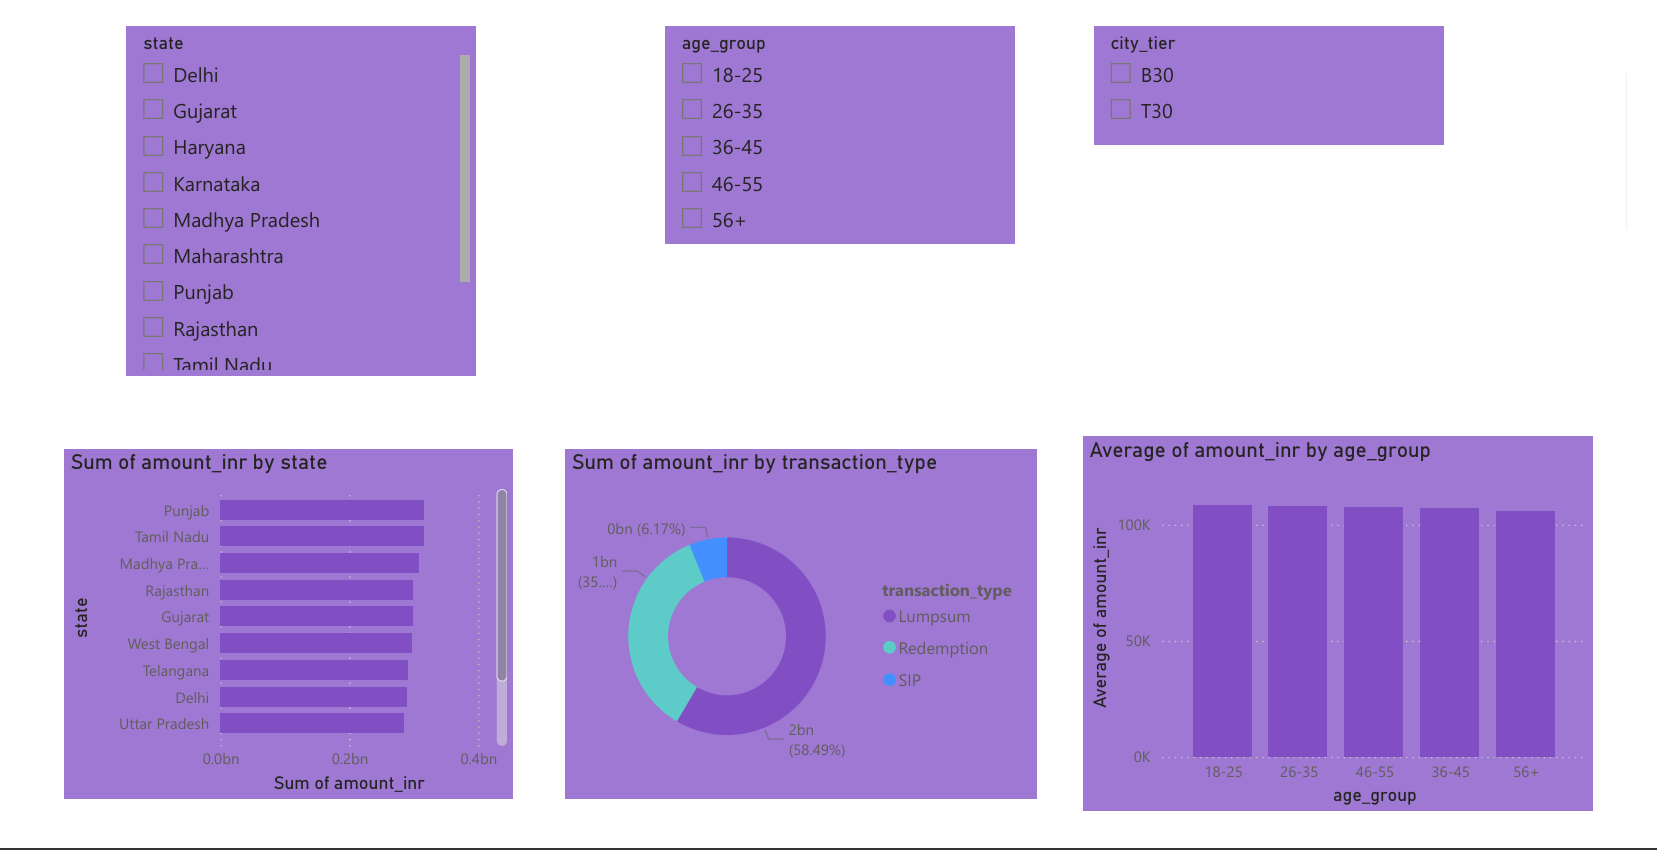

Layout of this report page (visuals, bound fields, positions):
{"tool":"powerbi","page":{"name":"Investor Analytics","canvas":[1280,720],"ordinal":2},"visuals":[{"type":"slicer","fields":{"Values":["08_investor_transactions_clean.state"]},"box":[80,0,280,280],"z":0},{"type":"slicer","fields":{"Values":["08_investor_transactions_clean.age_group"]},"box":[511.2,0,280,173.8],"z":1000},{"type":"slicer","fields":{"Values":["08_investor_transactions_clean.city_tier"]},"box":[853.8,0,280,95],"z":2000},{"type":"clusteredBarChart","fields":{"Y":["Sum(08_investor_transactions_clean.amount_inr)"],"Category":["08_investor_transactions_clean.state"]},"box":[30,337.5,358.8,280],"z":3000},{"type":"donutChart","fields":{"Category":["08_investor_transactions_clean.transaction_type"],"Y":["Sum(08_investor_transactions_clean.amount_inr)"]},"box":[431.2,337.5,376.2,280],"z":4000},{"type":"clusteredColumnChart","fields":{"Category":["08_investor_transactions_clean.age_group"],"Y":["Avg(08_investor_transactions_clean.amount_inr)"]},"box":[845,327.5,407.5,300],"z":5000}]}

Visuals, with their boxes on the page's 1280x720 design canvas (x1, y1, x2, y2). These are canvas units, not pixel positions in the 1657x850 screenshot, which may show the page scaled, cropped or inside an application window:
slicer - 08_investor_transactions_clean.state: box=[80, 0, 360, 280]
slicer - 08_investor_transactions_clean.age_group: box=[511, 0, 791, 174]
slicer - 08_investor_transactions_clean.city_tier: box=[854, 0, 1134, 95]
clusteredBarChart - Sum(08_investor_transactions_clean.amount_inr) x 08_investor_transactions_clean.state: box=[30, 338, 389, 618]
donutChart - 08_investor_transactions_clean.transaction_type x Sum(08_investor_transactions_clean.amount_inr): box=[431, 338, 807, 618]
clusteredColumnChart - 08_investor_transactions_clean.age_group x Avg(08_investor_transactions_clean.amount_inr): box=[845, 328, 1252, 628]
